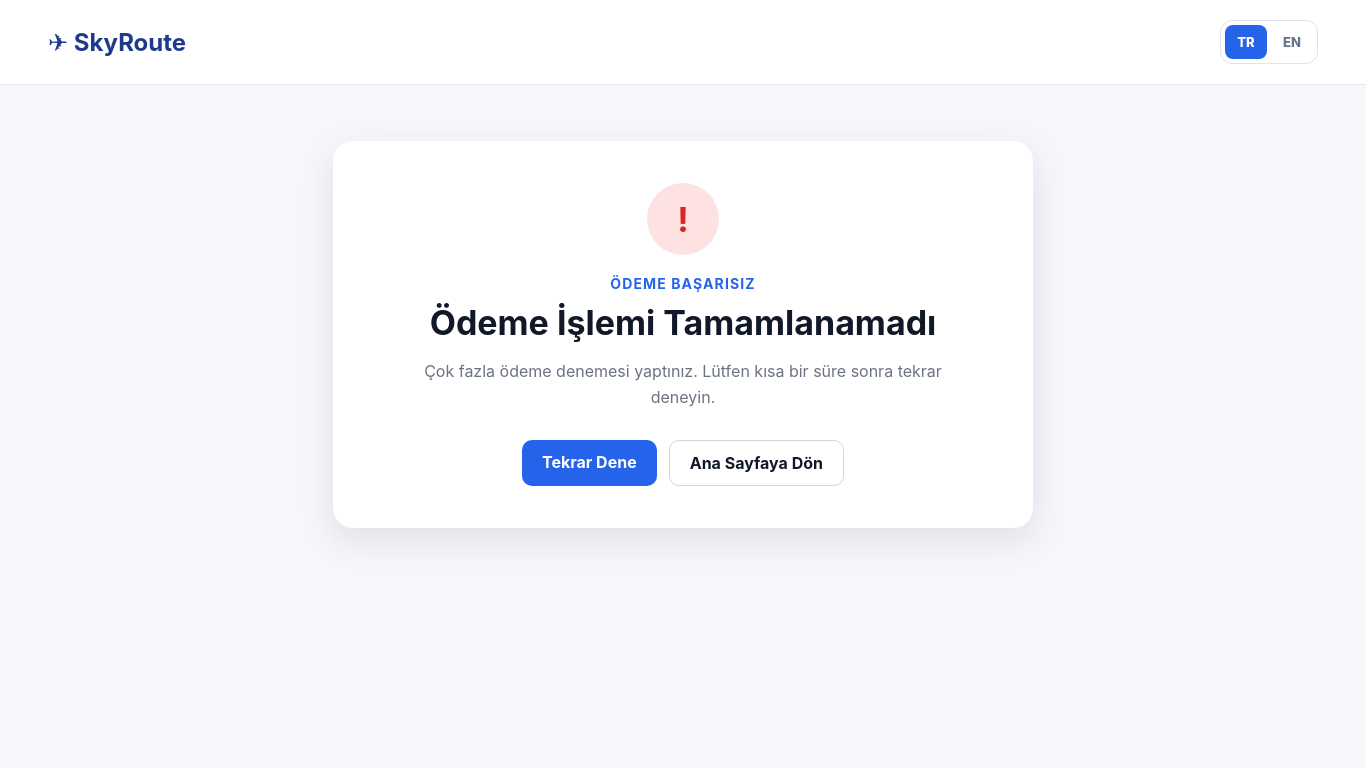
it: payment frontend flow › translates frontend-generated failed messages
Expected: the message shows "Çok fazla ödeme denemesi yaptınız.", [424,361,942,407]
Click the button with aria-label "English" at (1292, 42), box [1271,25,1313,59]
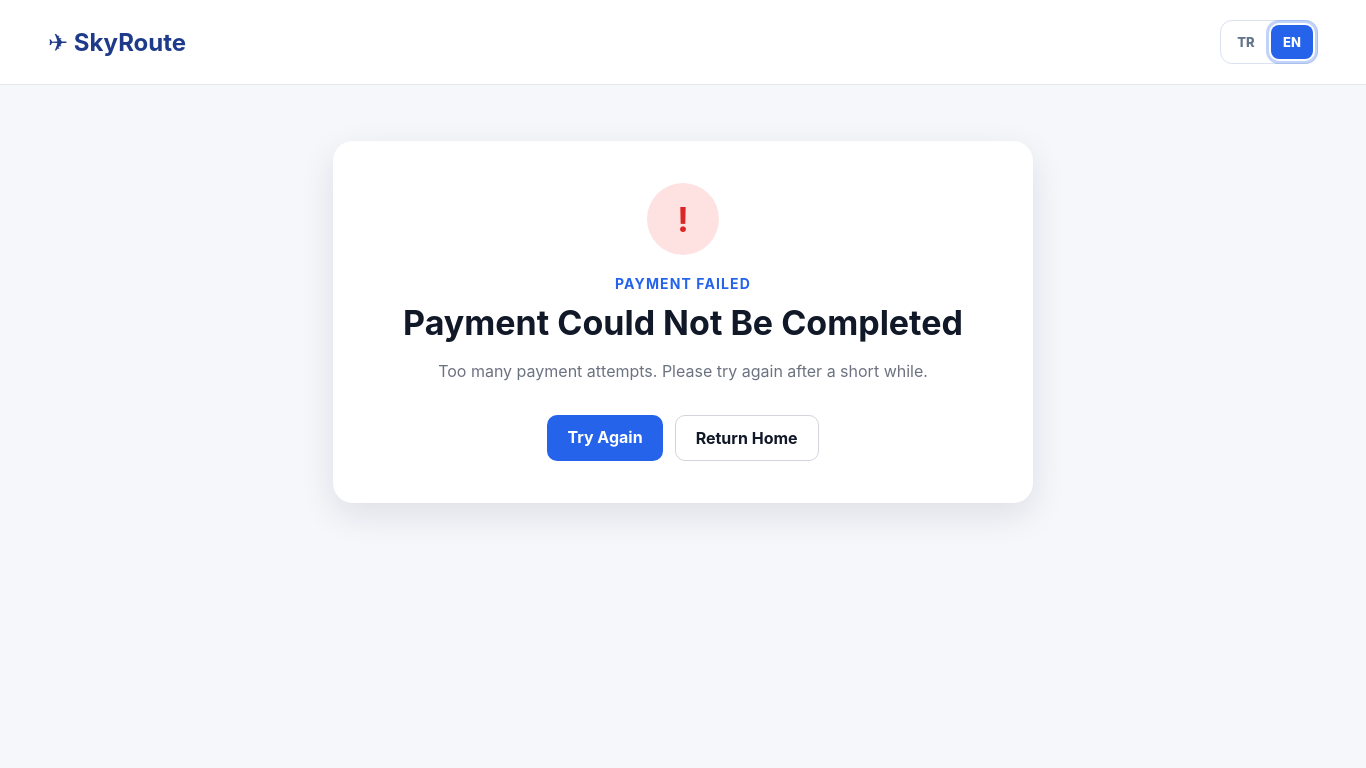
Expected: the heading "Payment Could Not Be Completed" is shown, [375,302,991,343]
Expected: the message shows "Too many payment attempts.", [438,361,928,381]
